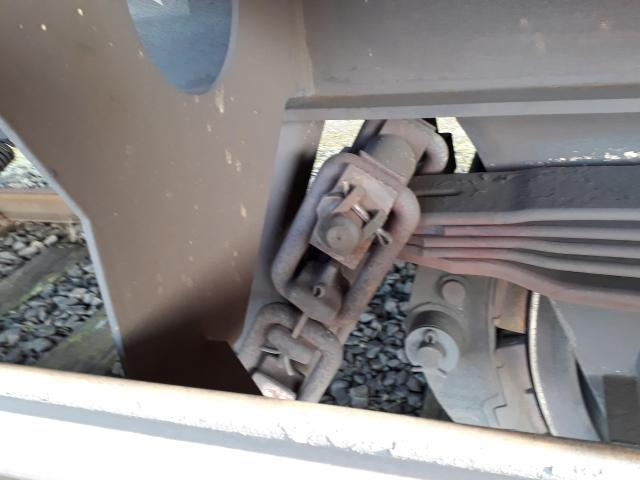blattfederww: (417, 168, 640, 284)
